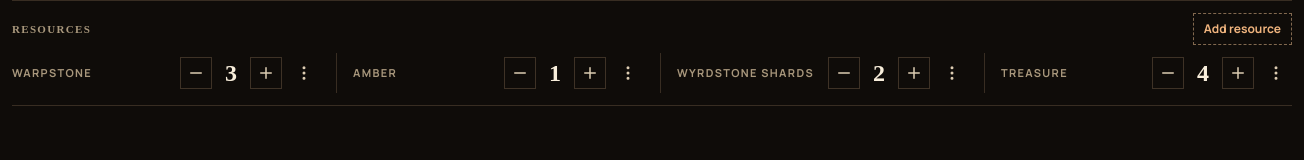
Test: WarbandResources › offers only Sell on a counter the campaign keeps for every warband
The image size is (1304, 160).
Click the button named "Treasure actions". click: (1276, 73)
box: 1260,57 -> 1292,89
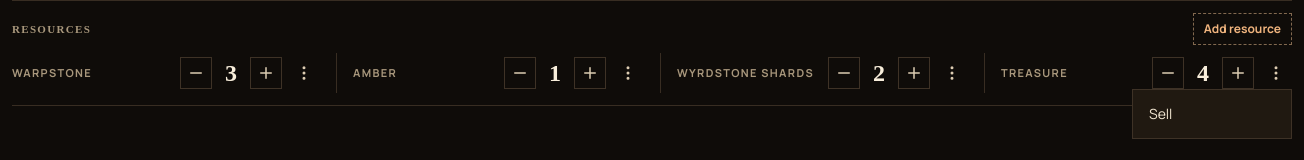
Expected: the menu items read "Sell", in this order, 1149,104 -> 1172,123
